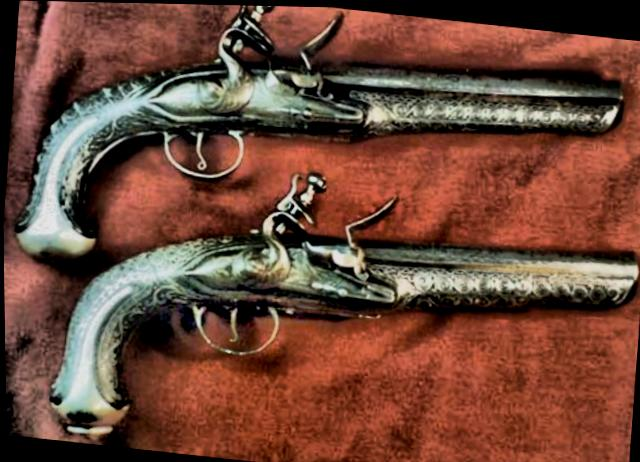pistol: (39, 112, 640, 462), (8, 0, 629, 318)
